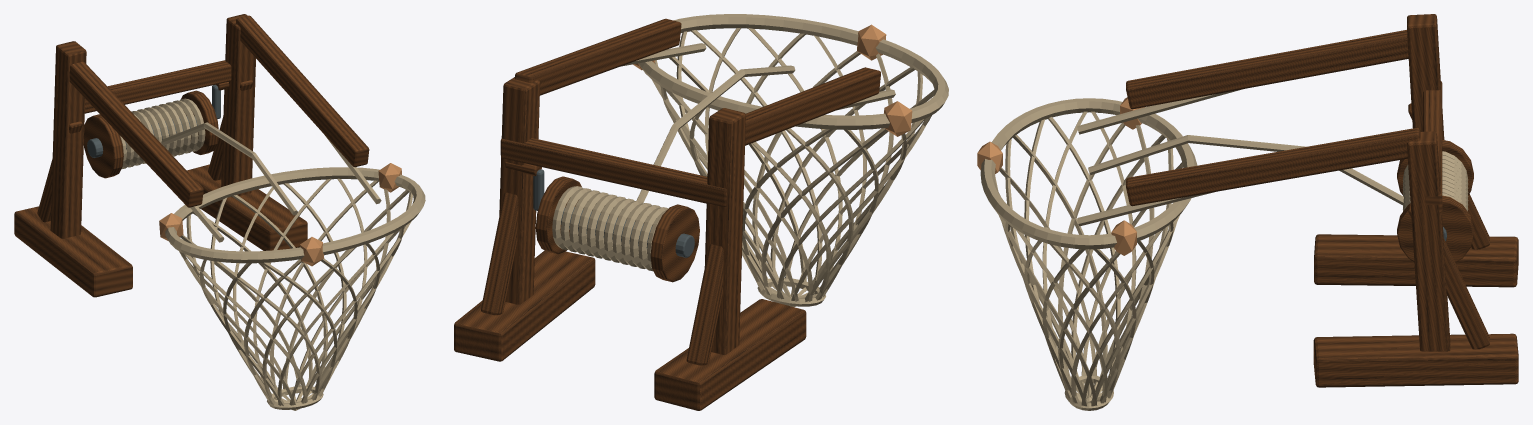
Rendered from fishingNet.glb.
The picture shows the model from 3 angles, left to right: view 1: azimuth 30°, elevation 25°; view 2: azimuth 150°, elevation 25°; view 3: azimuth 270°, elevation 25°; orthographic projection. The views are drawn at different scales.
Parts seen in each view (by area): view 1: GEO-fishingNet-hemp, GEO-fishingNet-Wood-dark, GEO-fishingNet-Wood-warm, GEO-fishingNet-Wood-grey, GEO-fishingNet-cork, GEO-fishingNet-iron; view 2: GEO-fishingNet-hemp, GEO-fishingNet-Wood-dark, GEO-fishingNet-Wood-warm, GEO-fishingNet-Wood-grey, GEO-fishingNet-cork, GEO-fishingNet-iron; view 3: GEO-fishingNet-hemp, GEO-fishingNet-Wood-dark, GEO-fishingNet-Wood-warm, GEO-fishingNet-Wood-grey, GEO-fishingNet-cork.
Boxes of the visible parts, x1,y1,x2,y2 form: GEO-fishingNet-hemp: (120,98,425,410); GEO-fishingNet-Wood-dark: (14,80,307,297); GEO-fishingNet-Wood-warm: (69,15,369,207); GEO-fishingNet-Wood-grey: (50,14,255,238); GEO-fishingNet-cork: (159,163,401,266); GEO-fishingNet-iron: (87,84,220,157); GEO-fishingNet-hemp: (552,14,948,306); GEO-fishingNet-Wood-dark: (454,176,806,410); GEO-fishingNet-Wood-warm: (500,18,880,206); GEO-fishingNet-Wood-grey: (499,77,745,354); GEO-fishingNet-cork: (633,24,912,136); GEO-fishingNet-iron: (533,169,694,257); GEO-fishingNet-hemp: (980,89,1468,410); GEO-fishingNet-Wood-dark: (1313,103,1518,387); GEO-fishingNet-Wood-warm: (1126,30,1442,218); GEO-fishingNet-Wood-grey: (1407,14,1450,351); GEO-fishingNet-cork: (977,97,1145,255).
Size of the model in its own units: 1.23 by 1.37 by 1.97.
Materials: 6 (3 with a texture image).
